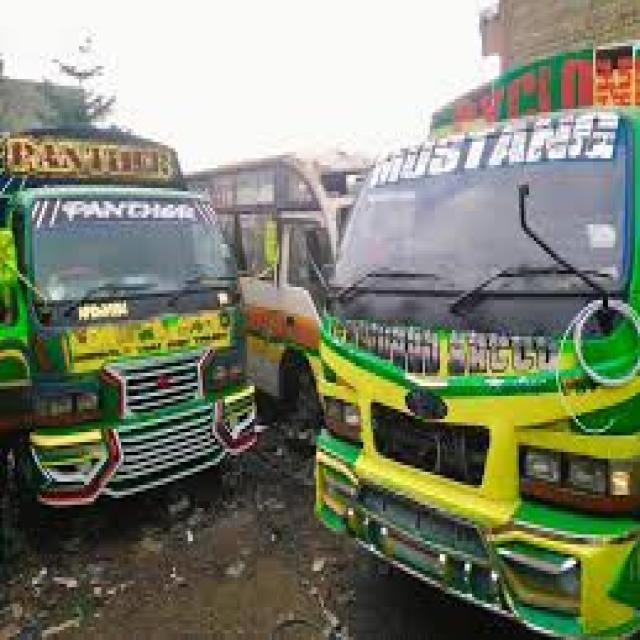bus: (306, 33, 640, 640), (1, 43, 293, 542)
